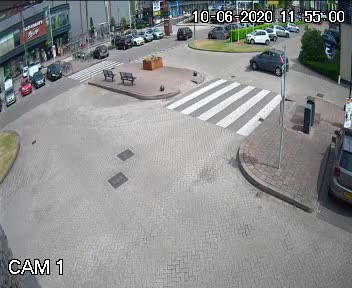car: (246, 45, 291, 78), (174, 25, 192, 43)
